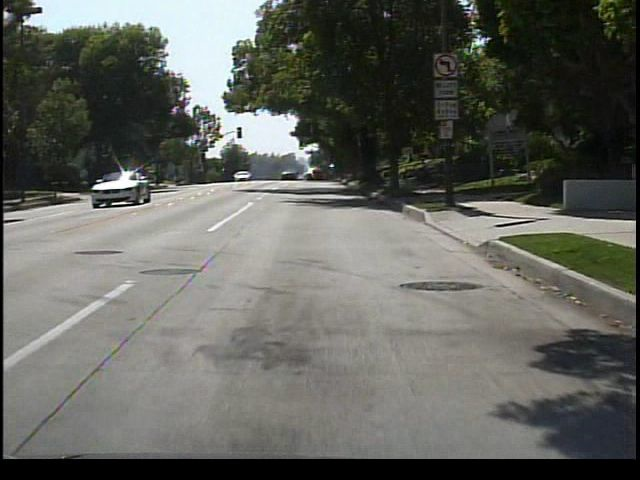person: (414, 152, 436, 188)
